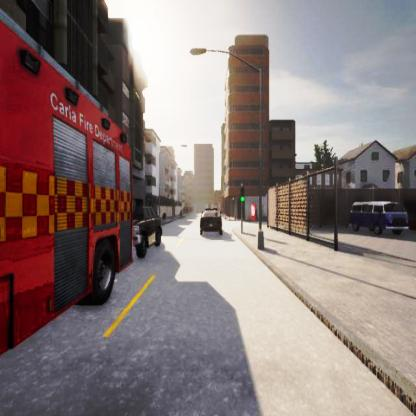vehicle: (2, 5, 142, 352), (348, 200, 408, 235), (132, 204, 162, 249), (200, 210, 222, 236)
